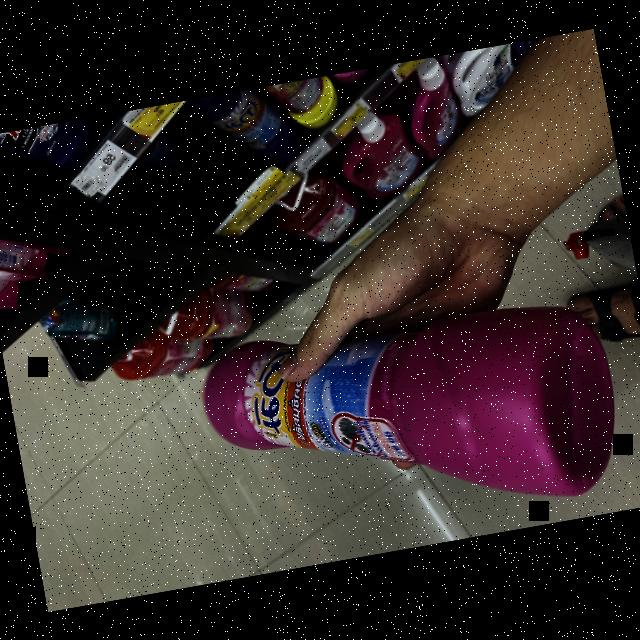chemical_plastic_bottle: (170, 277, 631, 564)
